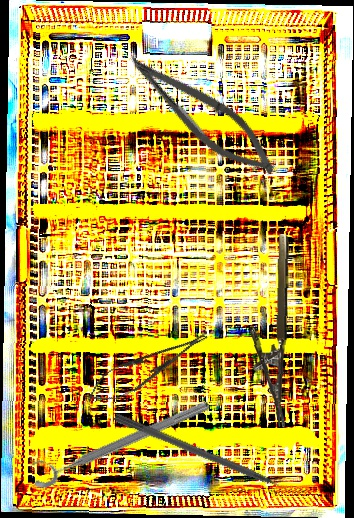Fixation Ring: (25, 386, 213, 492)
Micro Scissor: (113, 44, 290, 187)
Needle Holder: (80, 322, 215, 413), (246, 233, 292, 428)
Pusher: (112, 412, 302, 501)
